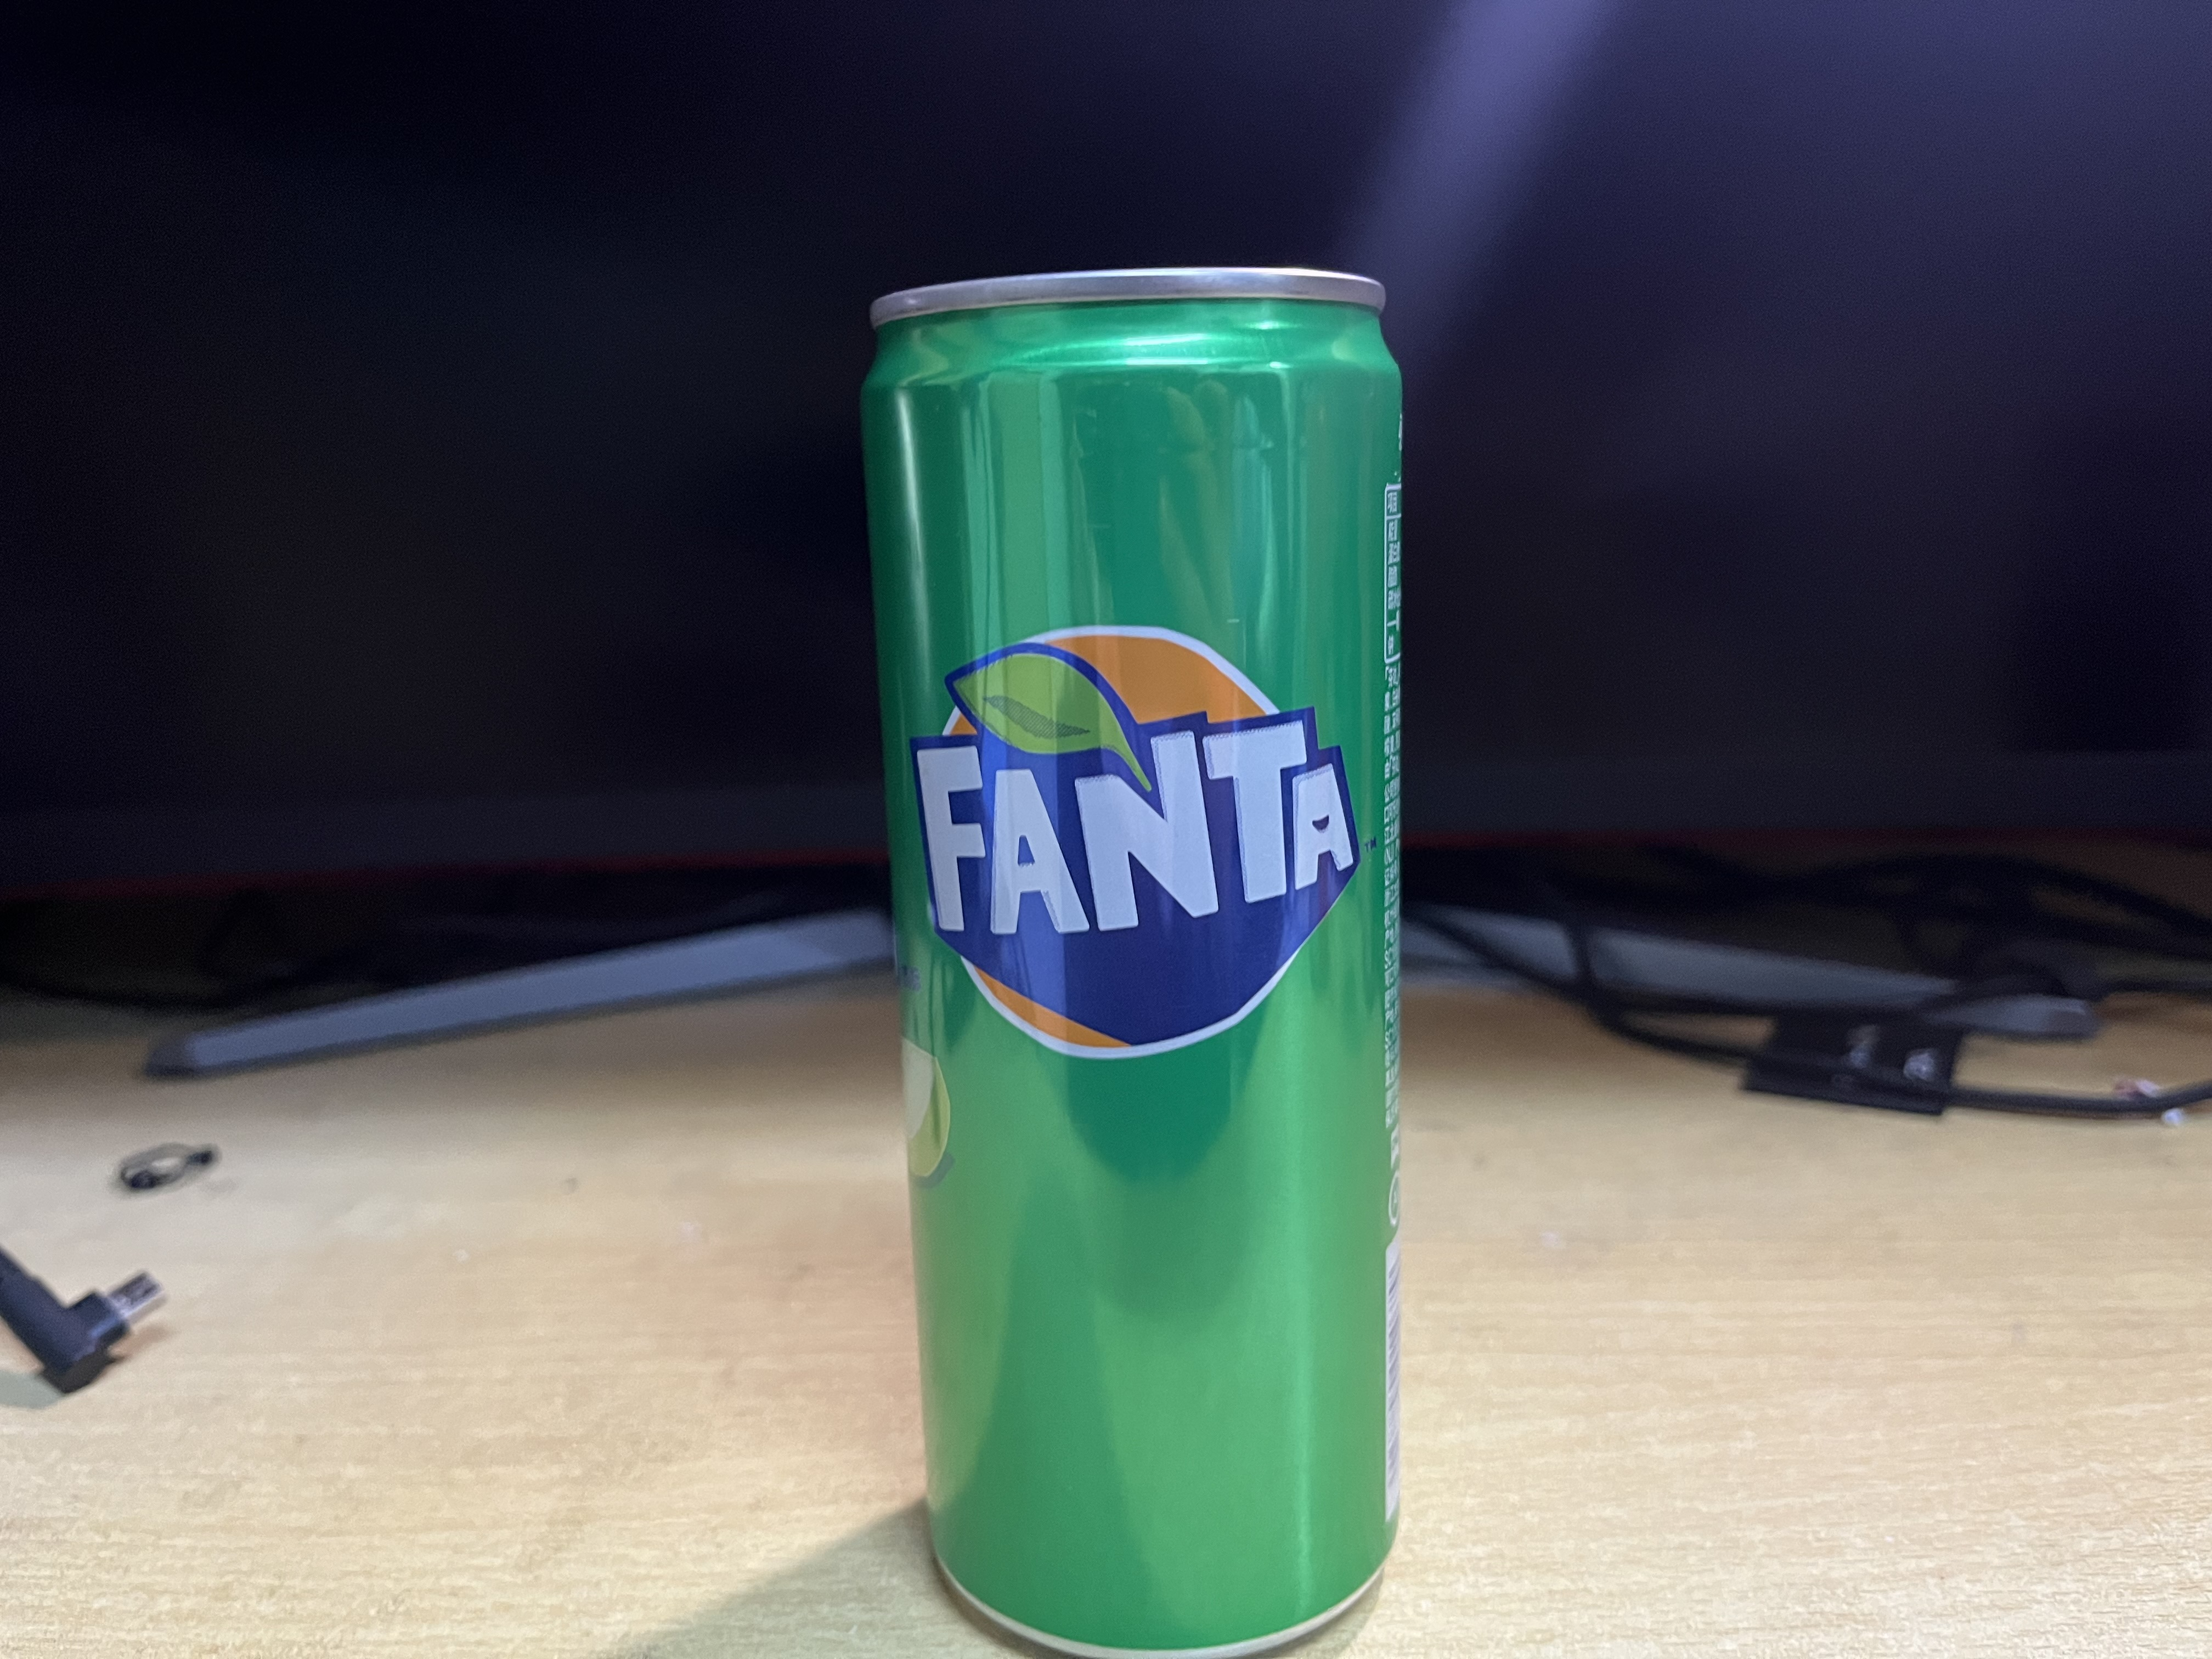FANTA_Apple: (859, 258, 1407, 1659)
